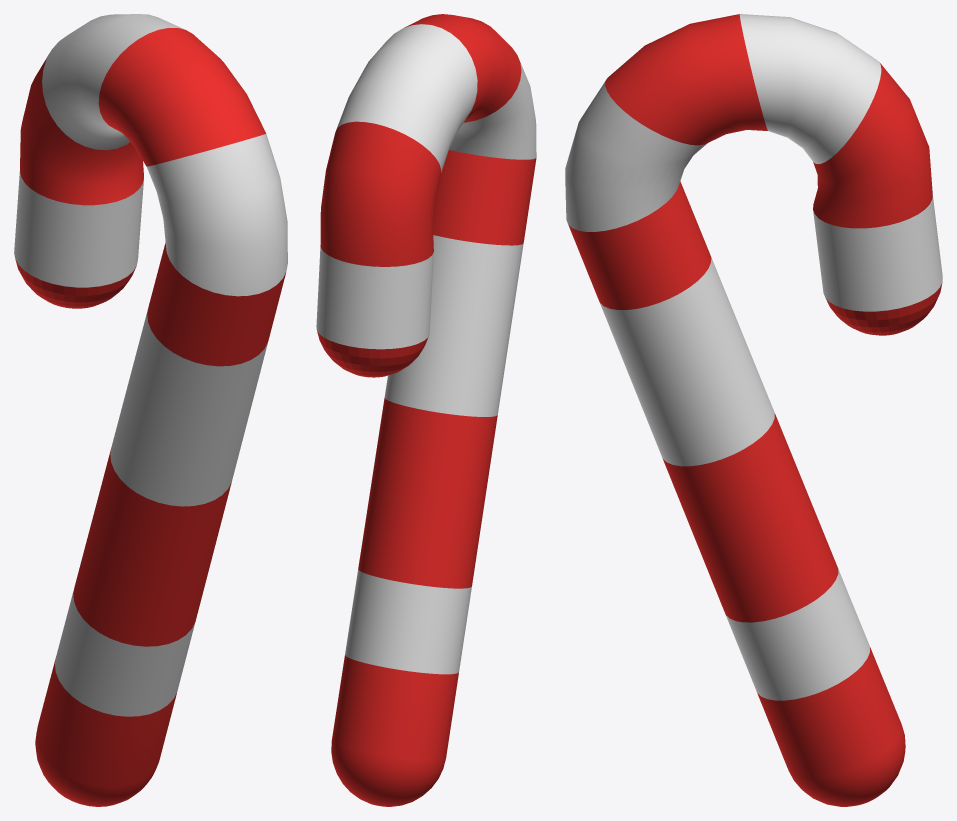
The model's file is Candy Cane.fbx.
3 renders of one model, left to right at view 1: azimuth 30°, elevation 25°; view 2: azimuth 150°, elevation 25°; view 3: azimuth 270°, elevation 25°, orthographic. The views are drawn at different scales.
Parts seen in each view (by area): view 1: Sphere, Sphere.001, Sphere.002; view 2: Sphere.001, Sphere, Sphere.002; view 3: Sphere.001, Sphere, Sphere.002.
Part boxes in pixels (box(x1,y1,x2,y2)): Sphere: box(14, 14, 287, 716); Sphere.001: box(20, 28, 286, 806); Sphere.002: box(15, 260, 136, 308); Sphere.001: box(320, 14, 536, 806); Sphere: box(316, 24, 536, 674); Sphere.002: box(317, 331, 428, 377); Sphere.001: box(568, 14, 932, 806); Sphere: box(565, 14, 942, 700); Sphere.002: box(826, 283, 942, 335).
Bounding box in the file's own units: 226 × 1410 × 615.
